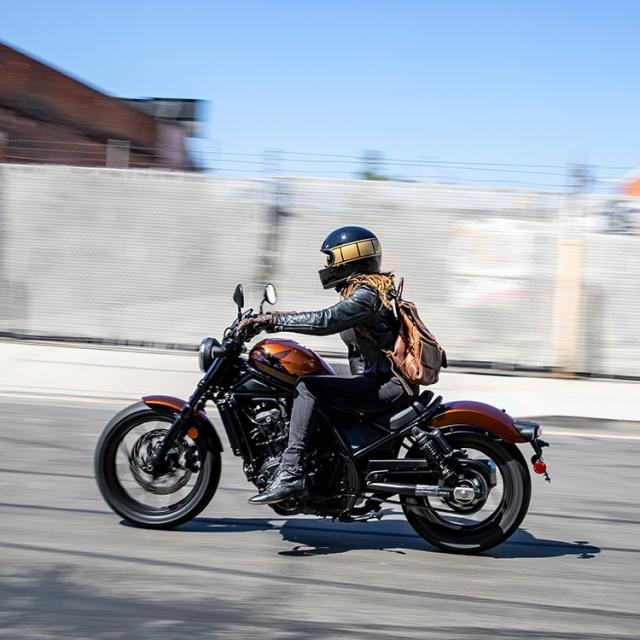Motorcycle: (95, 322, 335, 529), (273, 391, 542, 554)
